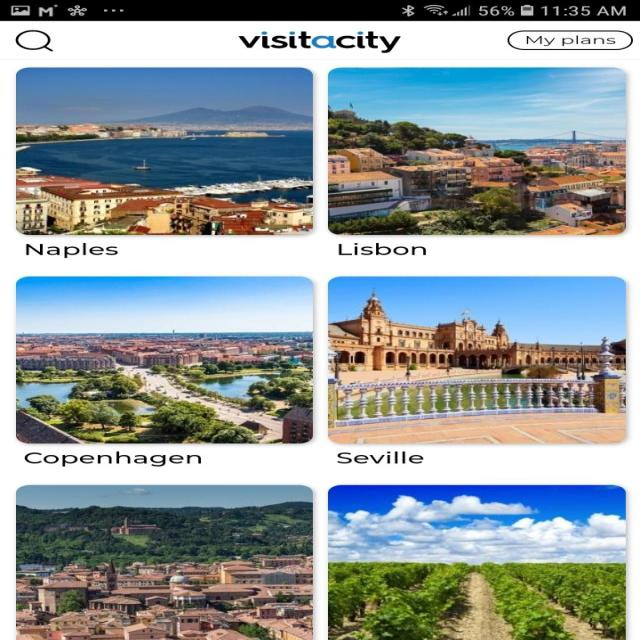Icon: (15, 29, 53, 52)
Image: (15, 276, 313, 443), (327, 276, 625, 443), (327, 68, 625, 235), (16, 68, 313, 235), (327, 484, 625, 640), (17, 484, 313, 640), (237, 31, 401, 53)
Text: (24, 451, 201, 466), (26, 243, 119, 258), (337, 242, 426, 255), (336, 451, 423, 463)
TextButton: (507, 30, 633, 50)
